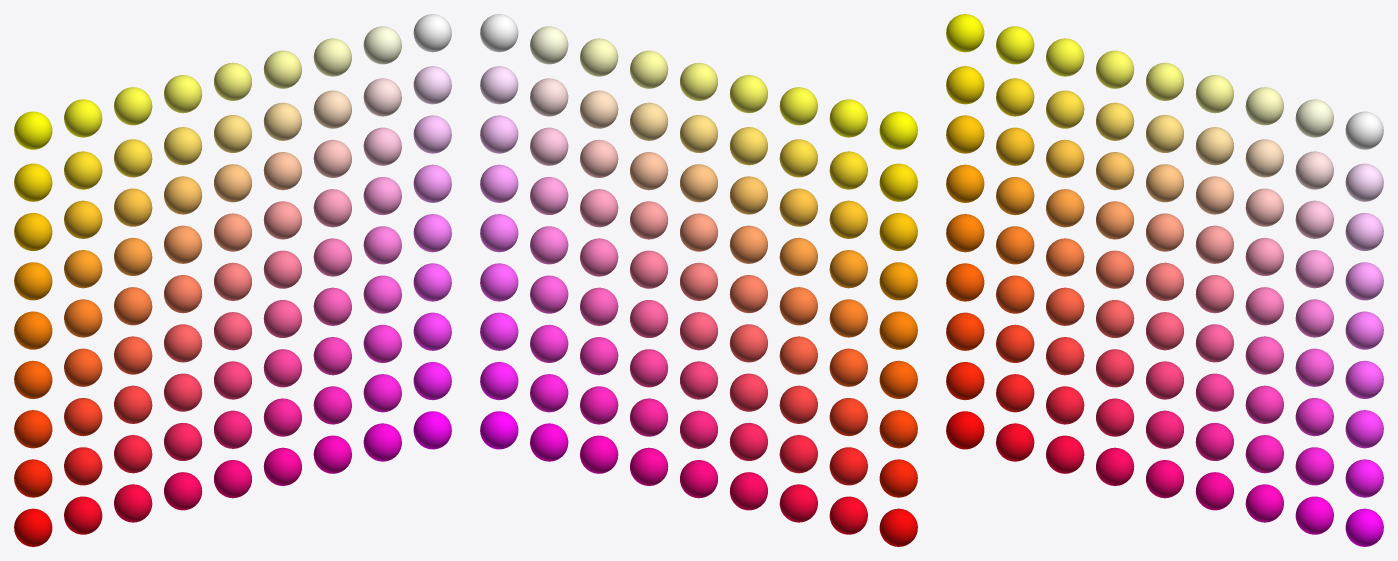
Rendered from PBR_9X9.fbx.
The picture shows the model from 3 angles, left to right: view 1: azimuth 30°, elevation 25°; view 2: azimuth 150°, elevation 25°; view 3: azimuth 330°, elevation 25°; orthographic projection.
Visible parts, largest first — view 1: MetalRought9x9; view 2: MetalRought9x9; view 3: MetalRought9x9.
Part boxes in pixels (<box>): MetalRought9x9: <box>14,14,451,546</box>; MetalRought9x9: <box>480,14,917,546</box>; MetalRought9x9: <box>946,14,1383,546</box>.
Bounding box in the file's own units: 13.03 × 12.43 × 1.
Materials: 1 (1 with a texture image).
